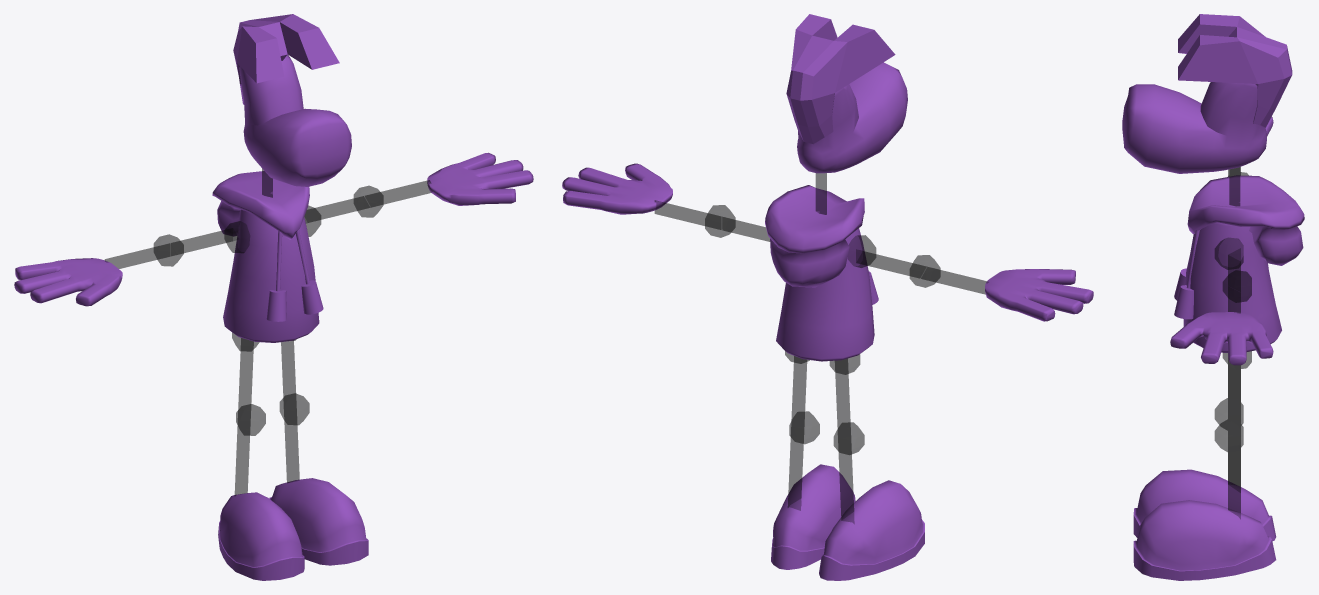
The model's file is RaymanModel.fbx.
3 renders of one model, left to right at view 1: azimuth 30°, elevation 25°; view 2: azimuth 150°, elevation 25°; view 3: azimuth 270°, elevation 25°, orthographic. The views are drawn at different scales.
Parts seen in each view (by area): view 1: geo_RaymanHead, geo_RaymanBody, geo_RaymanFoot1, geo_RaymanFoot, geo_RaymanHair_Test, geo_RaymanHood, geo_handtest, geo_handtest1, invisLeg3, invisLeg1, invisLeg2, invisLeg4 (+11 smaller); view 2: geo_RaymanBody, geo_RaymanHair_Test, geo_RaymanHood, geo_RaymanFoot1, geo_RaymanHead, geo_RaymanFoot, geo_handtest1, geo_handtest, invisLeg3, invisLeg1, invisLeg2, invisLeg4 (+8 smaller); view 3: geo_RaymanHead, geo_RaymanFoot, geo_RaymanHair_Test, geo_RaymanBody, geo_RaymanHood, geo_RaymanFoot1, geo_handtest, invisLeg4, invisLeg2, pSphere4, pSphere6, geo_RaymanHoodString (+7 smaller).
Boxes of the visible parts, bbox=[...] form: geo_RaymanHead: bbox=[239, 54, 351, 186]; geo_RaymanBody: bbox=[223, 209, 319, 342]; geo_RaymanFoot1: bbox=[218, 492, 304, 580]; geo_RaymanFoot: bbox=[269, 478, 368, 565]; geo_RaymanHair_Test: bbox=[233, 14, 339, 104]; geo_RaymanHood: bbox=[212, 171, 309, 239]; geo_handtest: bbox=[427, 152, 533, 205]; geo_handtest1: bbox=[14, 258, 122, 306]; invisLeg3: bbox=[238, 338, 253, 423]; invisLeg1: bbox=[234, 421, 250, 495]; invisLeg2: bbox=[284, 408, 299, 483]; invisLeg4: bbox=[281, 340, 296, 411]; geo_RaymanBody: bbox=[776, 228, 874, 361]; geo_RaymanHair_Test: bbox=[786, 14, 895, 144]; geo_RaymanHood: bbox=[765, 185, 864, 287]; geo_RaymanFoot1: bbox=[819, 480, 924, 580]; geo_RaymanHead: bbox=[797, 62, 907, 173]; geo_RaymanFoot: bbox=[771, 464, 855, 569]; geo_handtest1: bbox=[985, 269, 1093, 321]; geo_handtest: bbox=[562, 163, 672, 214]; invisLeg3: bbox=[835, 358, 850, 445]; invisLeg1: bbox=[838, 444, 854, 523]; invisLeg2: bbox=[787, 432, 803, 510]; invisLeg4: bbox=[791, 356, 807, 434]; geo_RaymanHead: bbox=[1122, 82, 1266, 173]; geo_RaymanFoot: bbox=[1133, 500, 1276, 580]; geo_RaymanHair_Test: bbox=[1178, 14, 1292, 127]; geo_RaymanBody: bbox=[1183, 222, 1281, 352]; geo_RaymanHood: bbox=[1187, 175, 1304, 265]; geo_RaymanFoot1: bbox=[1133, 469, 1276, 541]; geo_handtest: bbox=[1170, 312, 1273, 365]; invisLeg4: bbox=[1228, 357, 1240, 441]; invisLeg2: bbox=[1228, 439, 1240, 518]; pSphere4: bbox=[1222, 270, 1251, 302]; pSphere6: bbox=[1214, 419, 1243, 451]; geo_RaymanHoodString: bbox=[1174, 230, 1199, 319].
Size of the model in its own units: 3.91 by 3.84 by 1.22.
